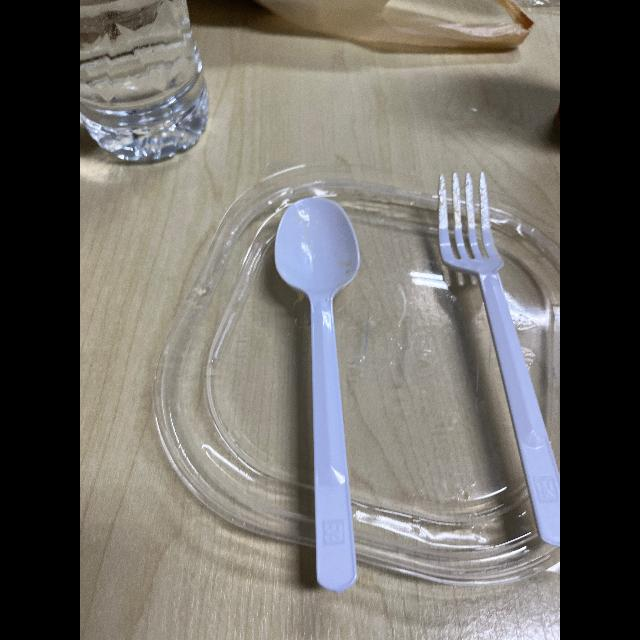plastic_cultery: (255, 183, 407, 589), (428, 143, 560, 555)
